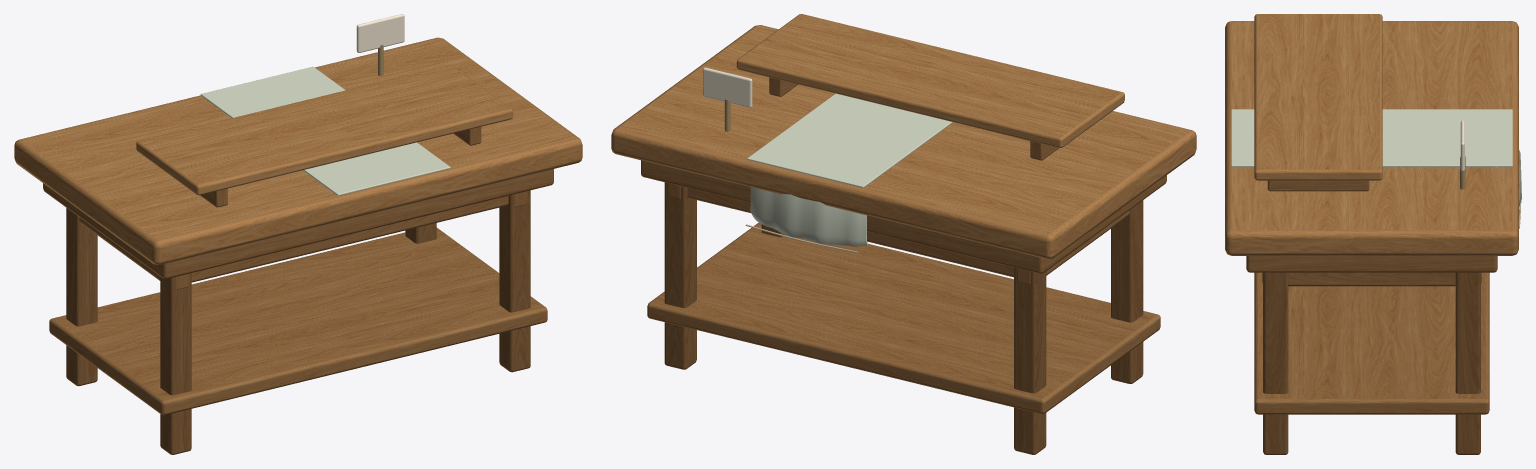
Rendered from display-3.glb.
3 views of the same model, side by side, from view 1: azimuth 30°, elevation 25°; view 2: azimuth 150°, elevation 25°; view 3: azimuth 270°, elevation 25° (orthographic). The views are drawn at different scales.
Parts seen in each view (by area): view 1: display-3; view 2: display-3; view 3: display-3.
Part boxes in pixels (bbox=[...]): display-3: bbox=[14, 14, 582, 454]; display-3: bbox=[611, 14, 1196, 454]; display-3: bbox=[1225, 14, 1521, 454].
Size of the model in its own units: 1.9 by 1.23 by 1.11.
9 materials, 7 textured.
